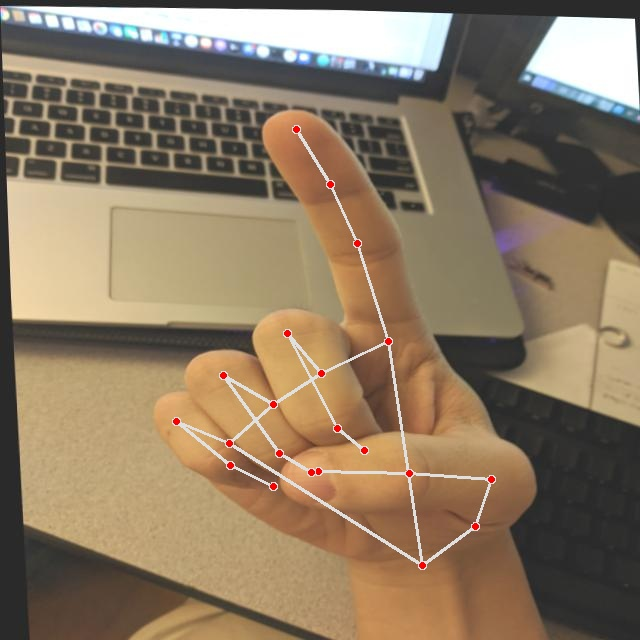D: (126, 93, 551, 576)
